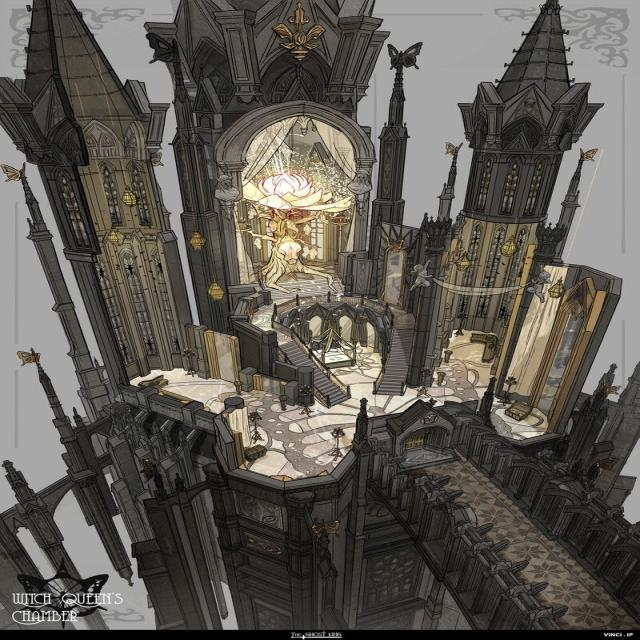castle: (6, 0, 640, 504)
